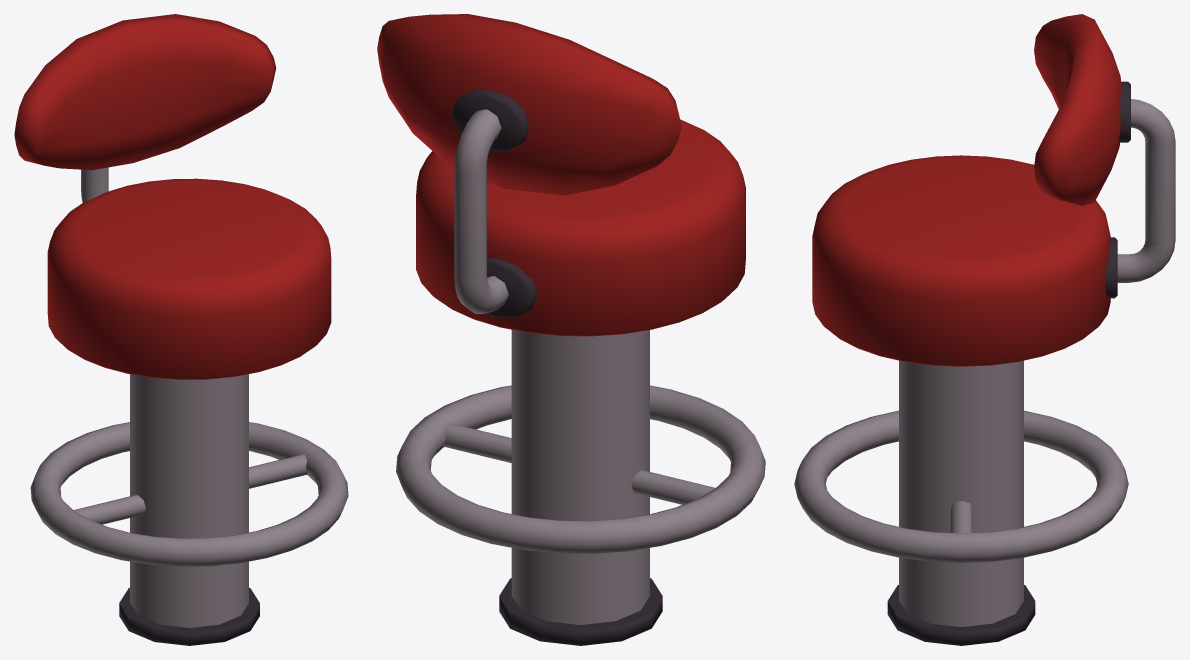
Rendered from GB_049_050_high_chair.glb.
3 renders of one model, left to right at view 1: azimuth 30°, elevation 25°; view 2: azimuth 150°, elevation 25°; view 3: azimuth 270°, elevation 25°, orthographic. The views are drawn at different scales.
Parts seen in each view (by area): view 1: Seat.002, Rest, Leg.001, Footrest.001, Footrest_support, Seat_back; view 2: Seat.002, Leg.001, Rest, Footrest.001, Seat_back, ConnectionPieces, Footrest_support; view 3: Seat.002, Leg.001, Footrest.001, Rest, Seat_back, ConnectionPieces, Footrest_support.
Part boxes in pixels (left/top/right/bottom): Seat.002: left=47, top=178, right=331, bottom=379; Rest: left=14, top=14, right=276, bottom=170; Leg.001: left=119, top=374, right=259, bottom=645; Footrest.001: left=30, top=422, right=348, bottom=566; Footrest_support: left=74, top=454, right=307, bottom=524; Seat_back: left=81, top=167, right=108, bottom=202; Seat.002: left=416, top=119, right=745, bottom=336; Leg.001: left=499, top=329, right=662, bottom=645; Rest: left=377, top=14, right=681, bottom=195; Footrest.001: left=396, top=385, right=765, bottom=553; Seat_back: left=454, top=109, right=508, bottom=313; ConnectionPieces: left=452, top=89, right=537, bottom=318; Footrest_support: left=443, top=423, right=715, bottom=504; Seat.002: left=812, top=155, right=1110, bottom=366; Leg.001: left=887, top=360, right=1035, bottom=645; Footrest.001: left=794, top=410, right=1128, bottom=562; Rest: left=1034, top=14, right=1121, bottom=205; Seat_back: left=1117, top=99, right=1175, bottom=282; ConnectionPieces: left=1105, top=81, right=1130, bottom=298; Footrest_support: left=950, top=501, right=972, bottom=533.
Size of the model in its own units: 0.769 by 1.46 by 0.8769.
